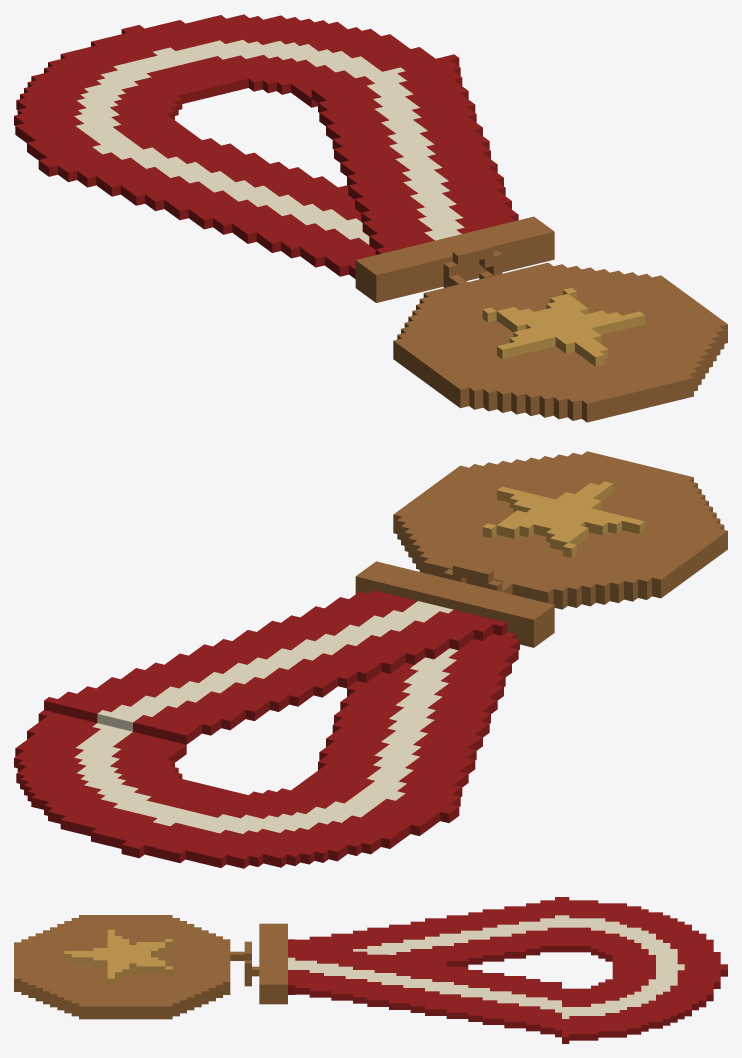
Rendered from bronze_medal.glb.
3 views of the same model, one above another, from view 1: azimuth 30°, elevation 25°; view 2: azimuth 150°, elevation 25°; view 3: azimuth 270°, elevation 25° (orthographic). The views are drawn at different scales.
Parts seen in each view (by area): view 1: bronze_medal:compound; view 2: bronze_medal:compound; view 3: bronze_medal:compound.
Part boxes in pixels (x1=…): bronze_medal:compound: x1=14, y1=14, x2=727, y2=422; bronze_medal:compound: x1=14, y1=451, x2=727, y2=868; bronze_medal:compound: x1=14, y1=897, x2=727, y2=1043.
Size of the model in its own units: 0.092 by 0.01 by 0.198.
